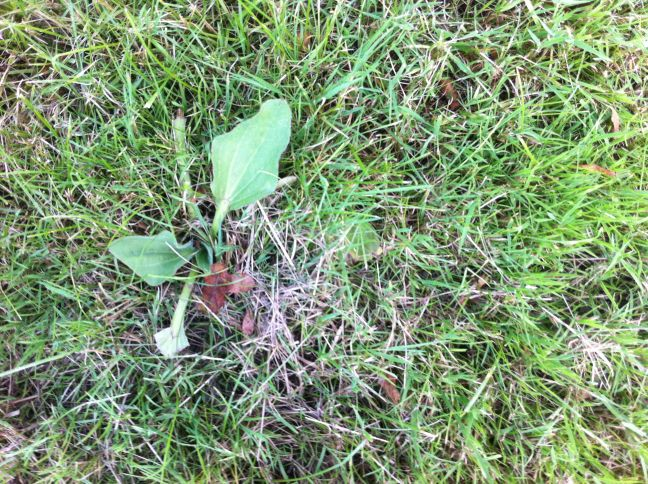weed1: (105, 96, 293, 360)
